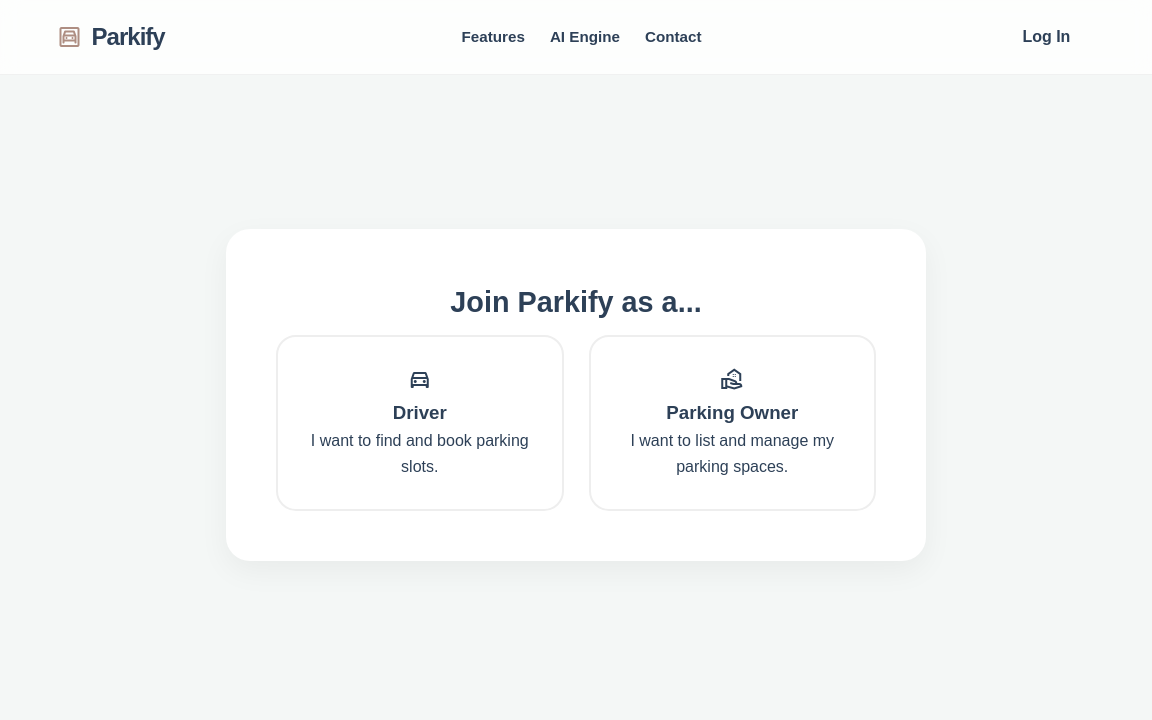
Registration Page Tests › shows validation error for short password
Note: Go to step 2
Click the text "Driver I want to find and book parking slots." at (420, 423), box top-left (276, 335), bottom-right (564, 511)
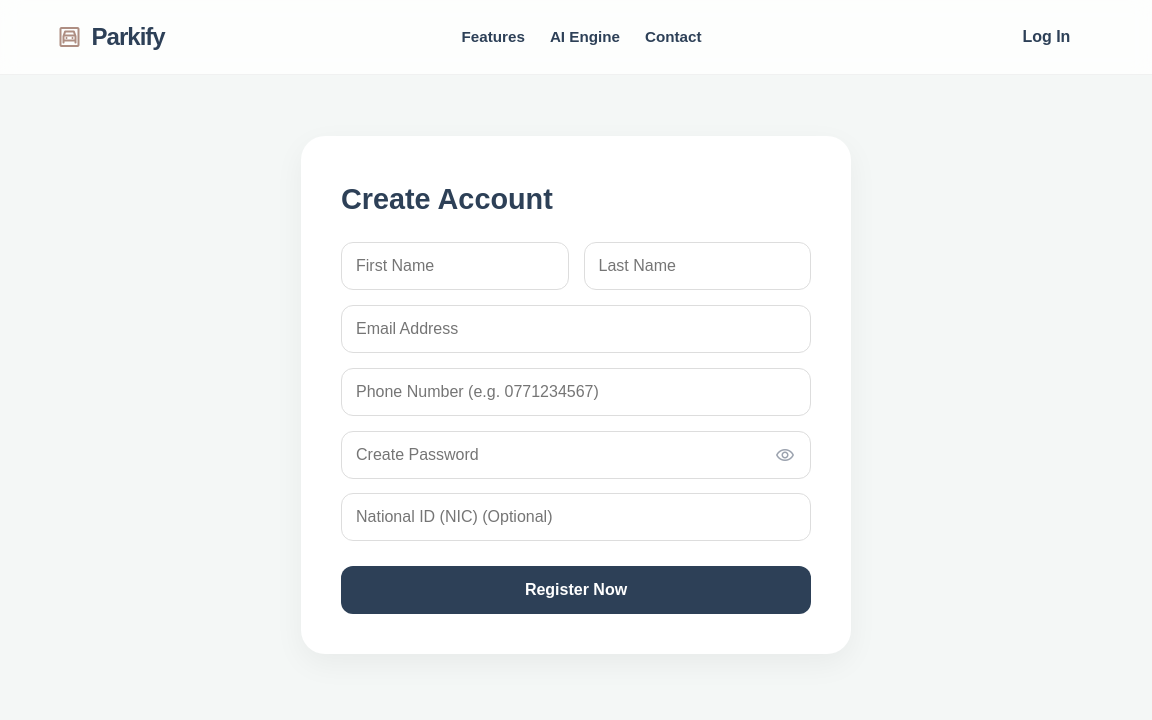
Type "123" into the password field with placeholder "Create Password" at (576, 455), box top-left (341, 431), bottom-right (811, 479)
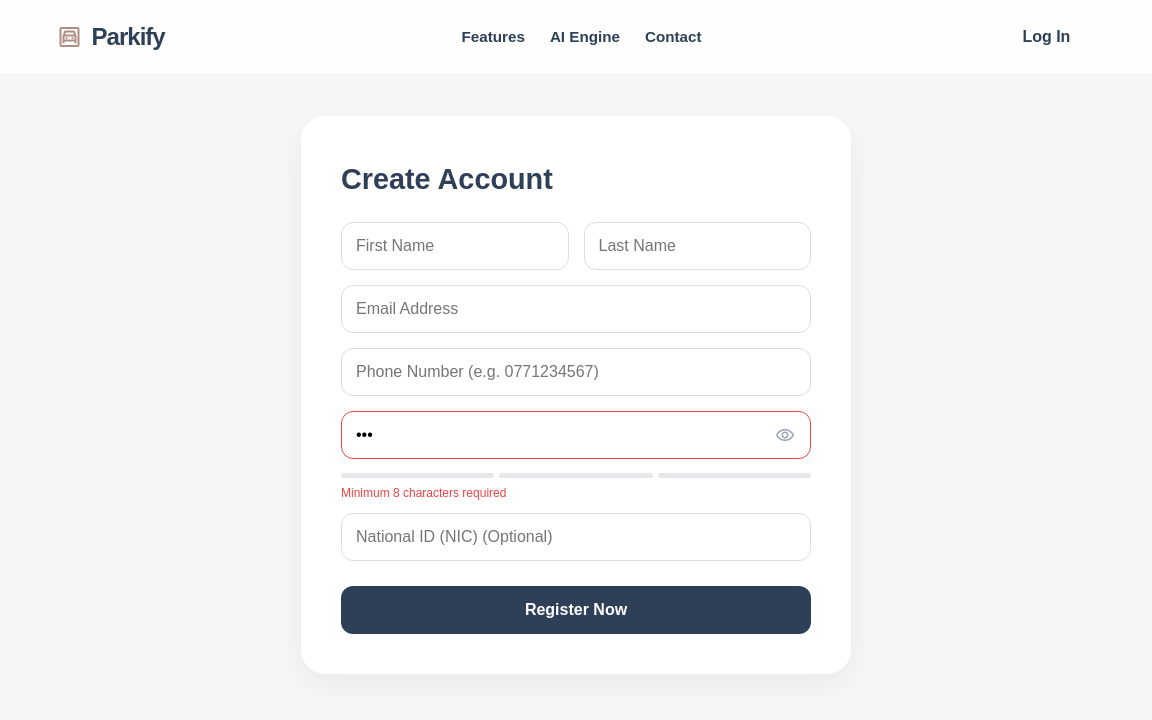
Expected: the text "Minimum 8 characters required" is shown, top-left (341, 486), bottom-right (506, 500)
